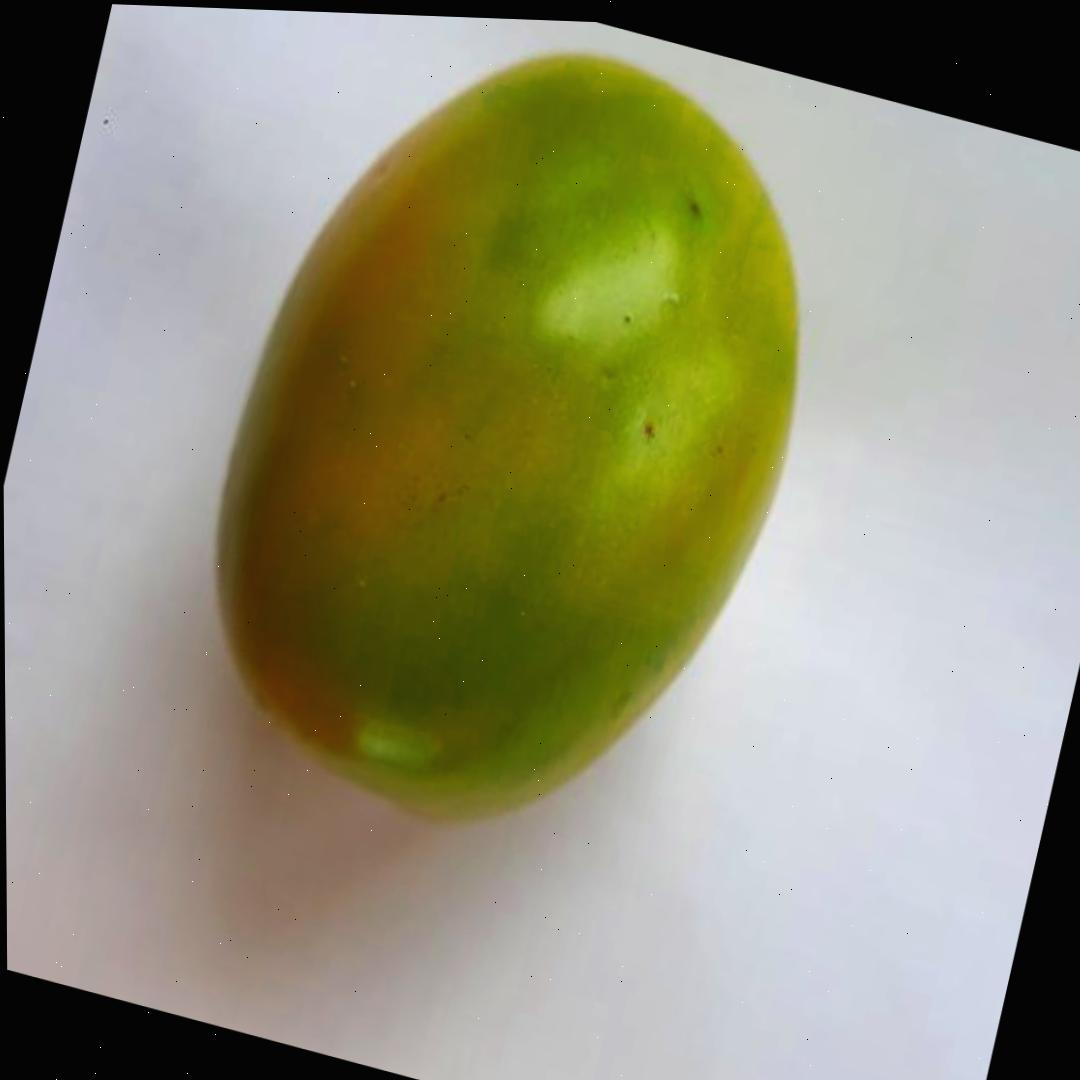setengah_matang: (148, 5, 875, 906)
